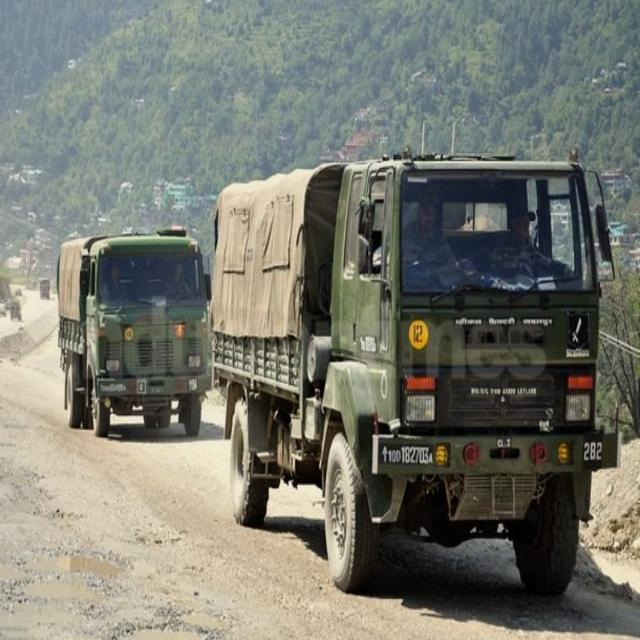truck: (211, 154, 619, 594), (58, 230, 210, 436)
